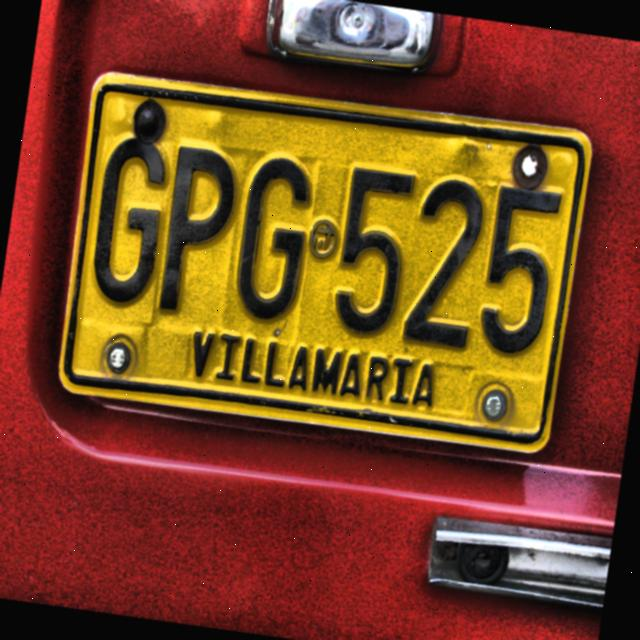2: (400, 173, 490, 352)
5: (474, 182, 564, 361), (328, 164, 418, 342)
G: (84, 131, 175, 312), (228, 150, 319, 326)
P: (153, 143, 244, 320)
